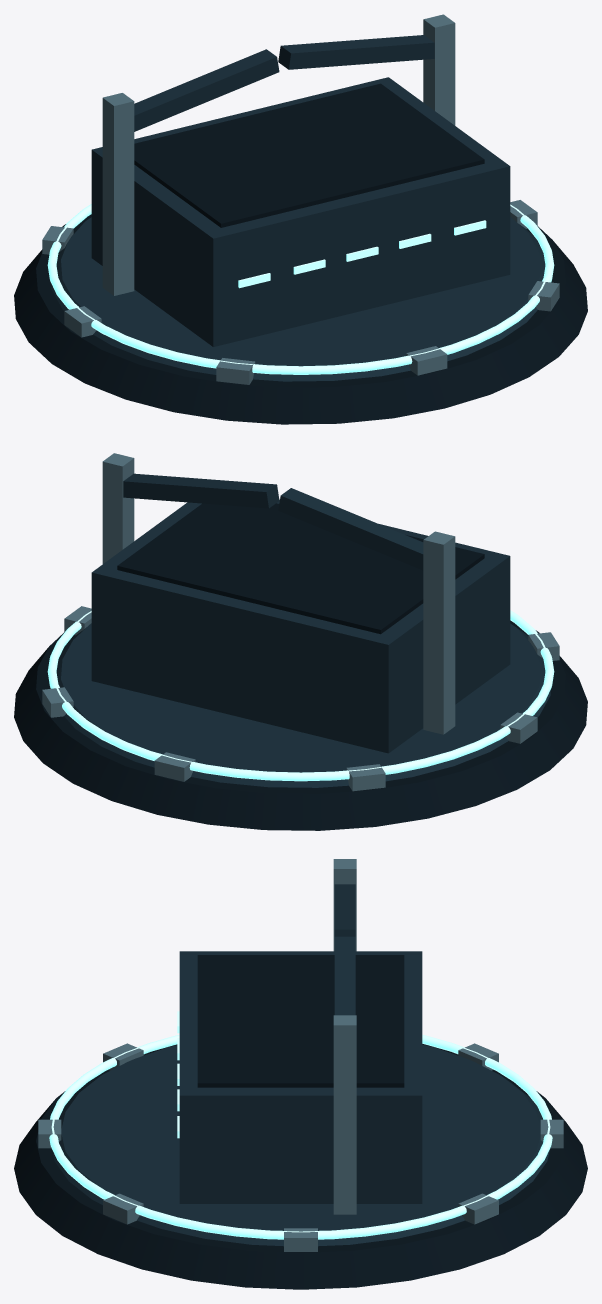
The model's file is roboticsFactory.glb.
3 renders of one model, top to bottom at view 1: azimuth 30°, elevation 25°; view 2: azimuth 150°, elevation 25°; view 3: azimuth 270°, elevation 25°, orthographic.
Parts seen in each view (by area): view 1: assembly-hall, armored-foundation, factory-roof, upper-deck, crane-tower (×2), crane-arm (×2), perimeter-light, buttress-3, buttress-2, buttress-4, buttress-1, buttress-5; view 2: assembly-hall, armored-foundation, upper-deck, factory-roof, crane-tower (×2), crane-arm (×2), perimeter-light, buttress-5, buttress-6, buttress-4, buttress-7, buttress-3; view 3: upper-deck, assembly-hall, armored-foundation, factory-roof, perimeter-light, crane-tower (×2), crane-arm (×2), buttress-1, buttress-7, buttress-0, buttress-2, buttress-6 (+2 smaller).
Boxes of the visible parts, box(x1,y1,x2,y2) form: assembly-hall: box(91, 77, 510, 346); armored-foundation: box(14, 214, 587, 424); factory-roof: box(134, 83, 484, 227); upper-deck: box(51, 217, 551, 381); crane-tower (×2): box(102, 14, 455, 295); crane-arm (×2): box(134, 35, 434, 131); perimeter-light: box(47, 204, 554, 374); buttress-3: box(216, 358, 255, 384); buttress-2: box(406, 346, 447, 375); buttress-4: box(64, 306, 101, 337); buttress-1: box(528, 281, 559, 311); buttress-5: box(42, 226, 73, 254); assembly-hall: box(91, 499, 510, 753); armored-foundation: box(14, 620, 587, 830); upper-deck: box(50, 623, 550, 787); factory-roof: box(117, 503, 484, 634); crane-tower (×2): box(102, 453, 455, 734); crane-arm (×2): box(123, 473, 423, 570); perimeter-light: box(47, 610, 554, 781); buttress-5: box(346, 764, 385, 791); buttress-6: box(154, 752, 195, 781); buttress-4: box(500, 712, 537, 743); buttress-7: box(42, 687, 73, 717); buttress-3: box(528, 632, 559, 660); upper-deck: box(52, 1044, 549, 1246); assembly-hall: box(179, 951, 422, 1203); armored-foundation: box(14, 1044, 587, 1289); factory-roof: box(197, 955, 404, 1087); perimeter-light: box(49, 1035, 552, 1239); crane-tower (×2): box(333, 859, 356, 1214); crane-arm (×2): box(334, 884, 355, 1015); buttress-1: box(103, 1193, 143, 1224); buttress-7: box(458, 1193, 498, 1224); buttress-0: box(284, 1228, 317, 1251); buttress-2: box(38, 1119, 61, 1148); buttress-6: box(540, 1119, 563, 1148).
Bounding box in the file's own units: 10.4 × 4.7 × 10.4.
